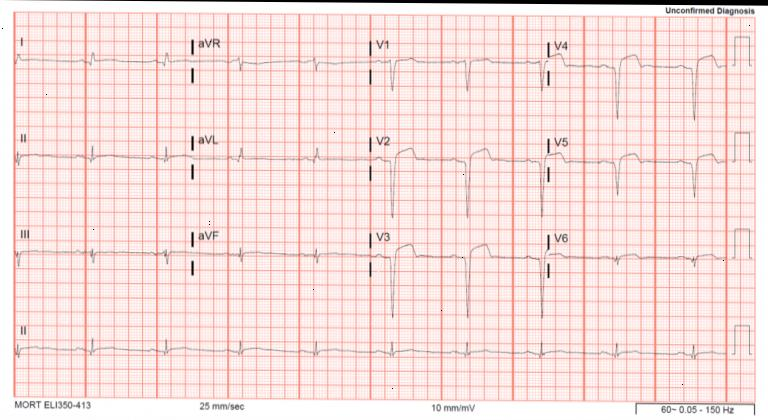Lead_I: (15, 31, 194, 98)
Lead_II: (13, 124, 194, 188)
Lead_III: (12, 220, 192, 285)
Lead_II_ext: (14, 323, 728, 378)
Lead_V1: (370, 31, 548, 101)
Lead_V2: (368, 127, 548, 228)
Lead_V3: (371, 226, 550, 331)
Lead_V4: (548, 29, 726, 127)
Lead_V5: (546, 128, 728, 205)
Lead_V6: (548, 225, 726, 288)
Lead_aVF: (192, 223, 370, 282)
Lead_aVL: (193, 127, 370, 189)
Lead_aVR: (194, 31, 371, 87)
